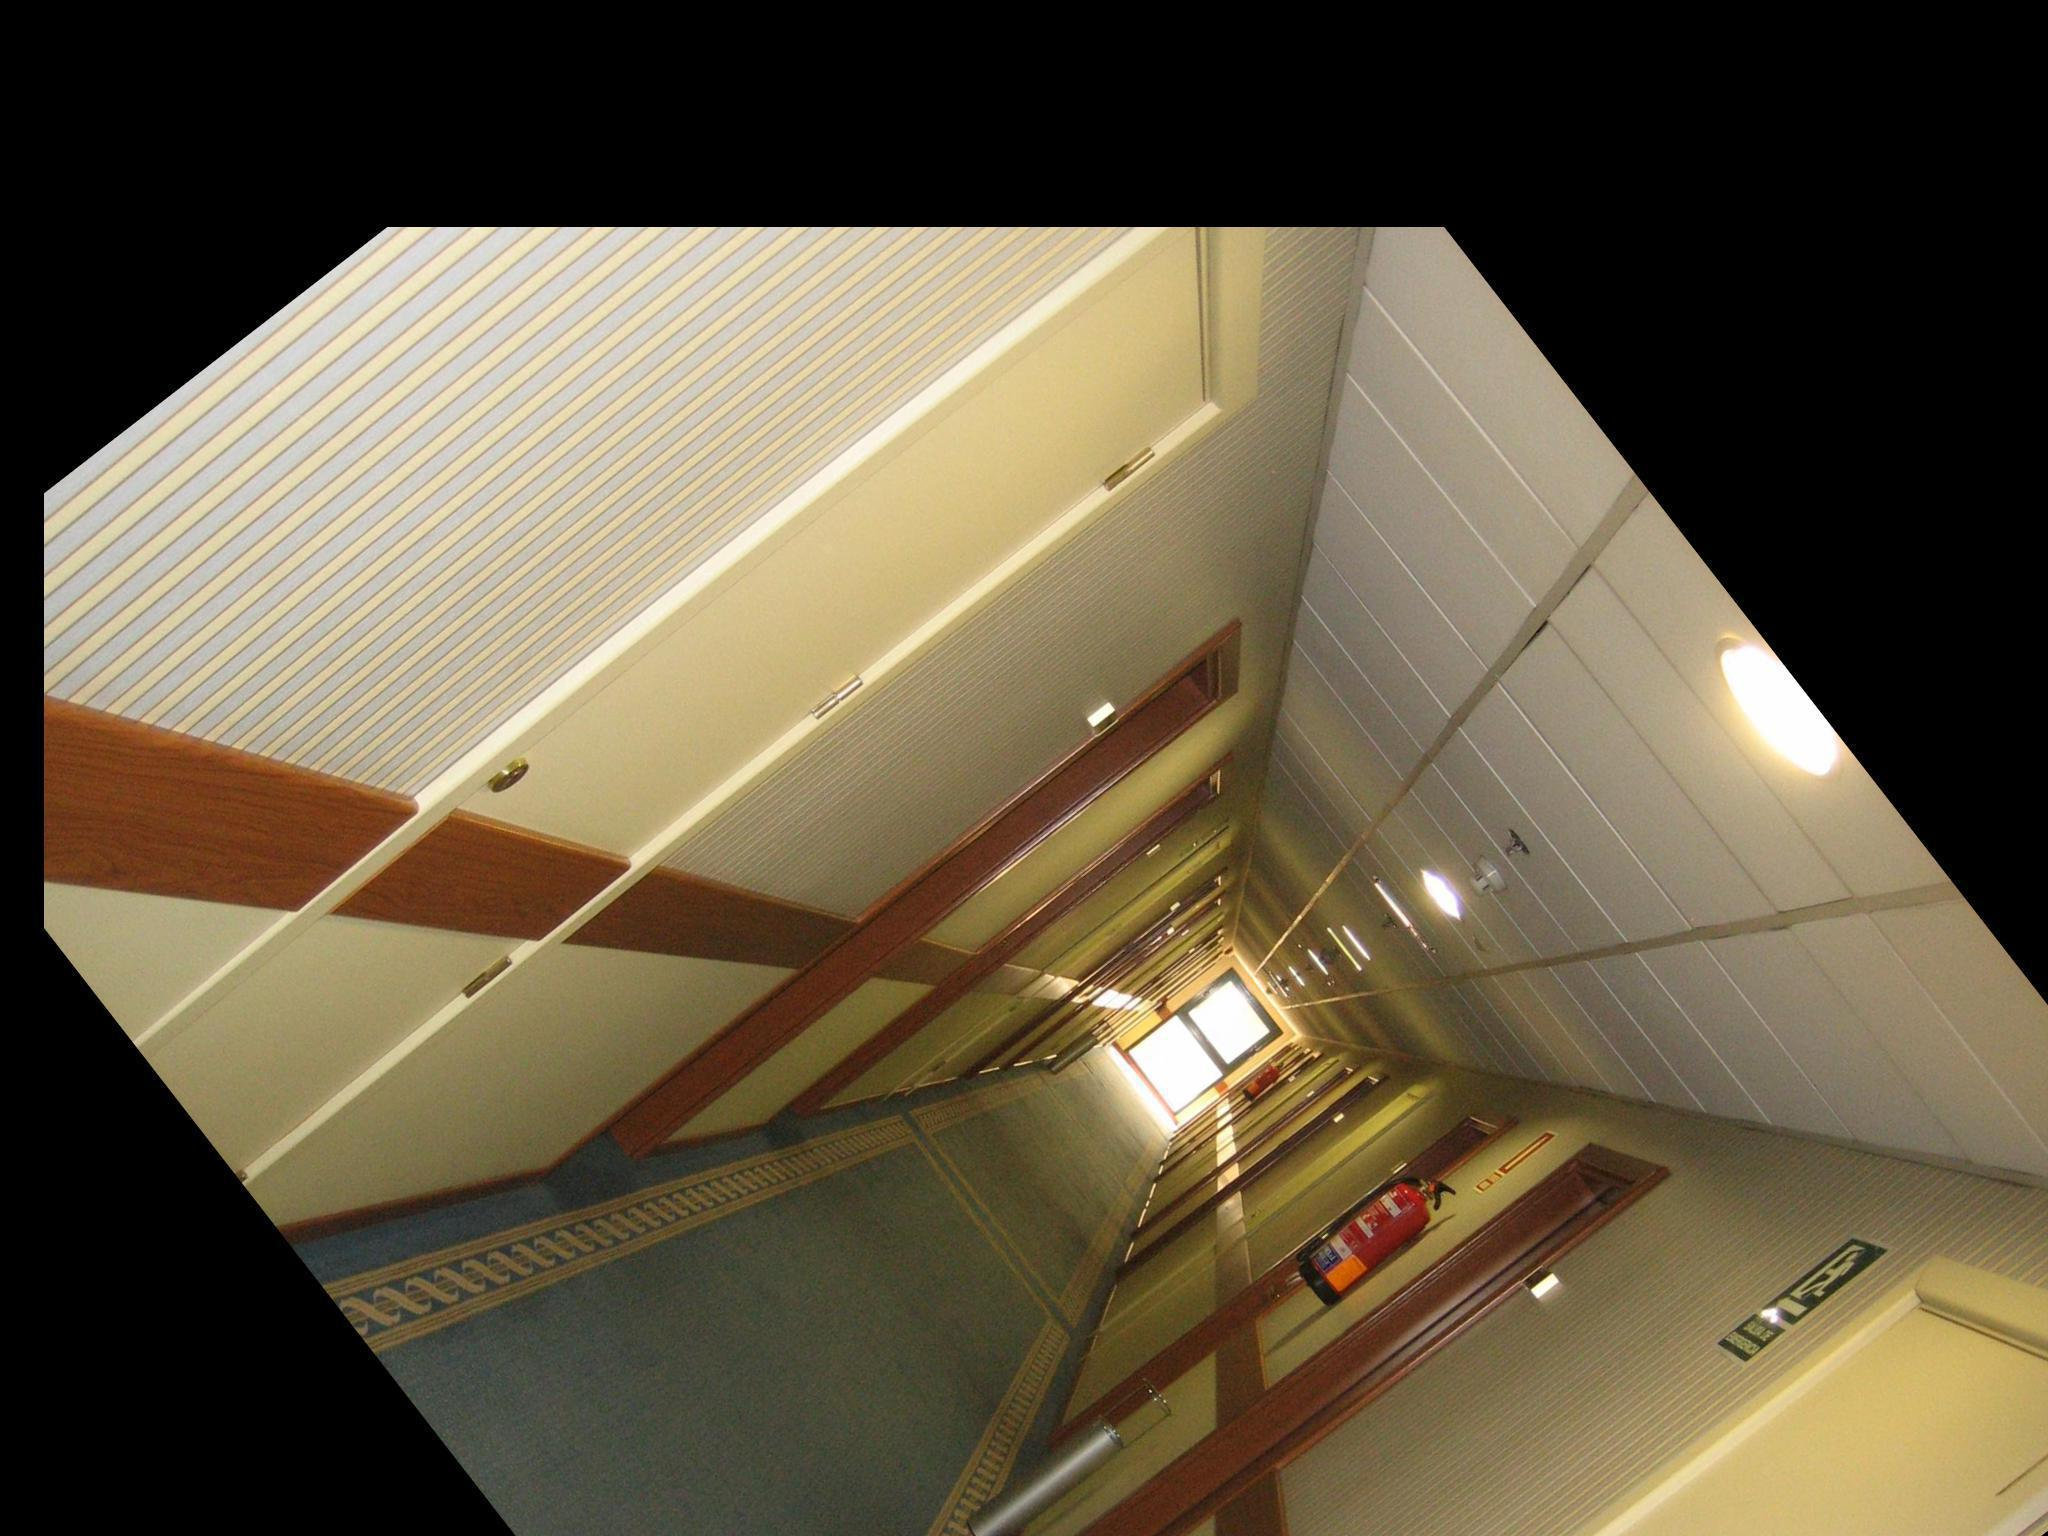Bote de Basura: (953, 1371, 1180, 1536)
Otro Obstaculo: (1269, 1146, 1476, 1329)
Puerta: (131, 203, 1305, 1173), (556, 631, 1248, 1187), (926, 1267, 2048, 1536), (971, 1147, 1617, 1536)
